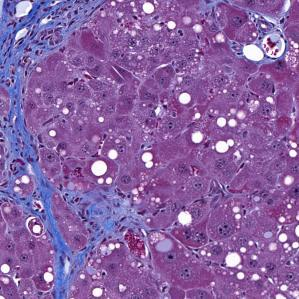fibrosis: (5, 133, 137, 251), (5, 8, 78, 93)
